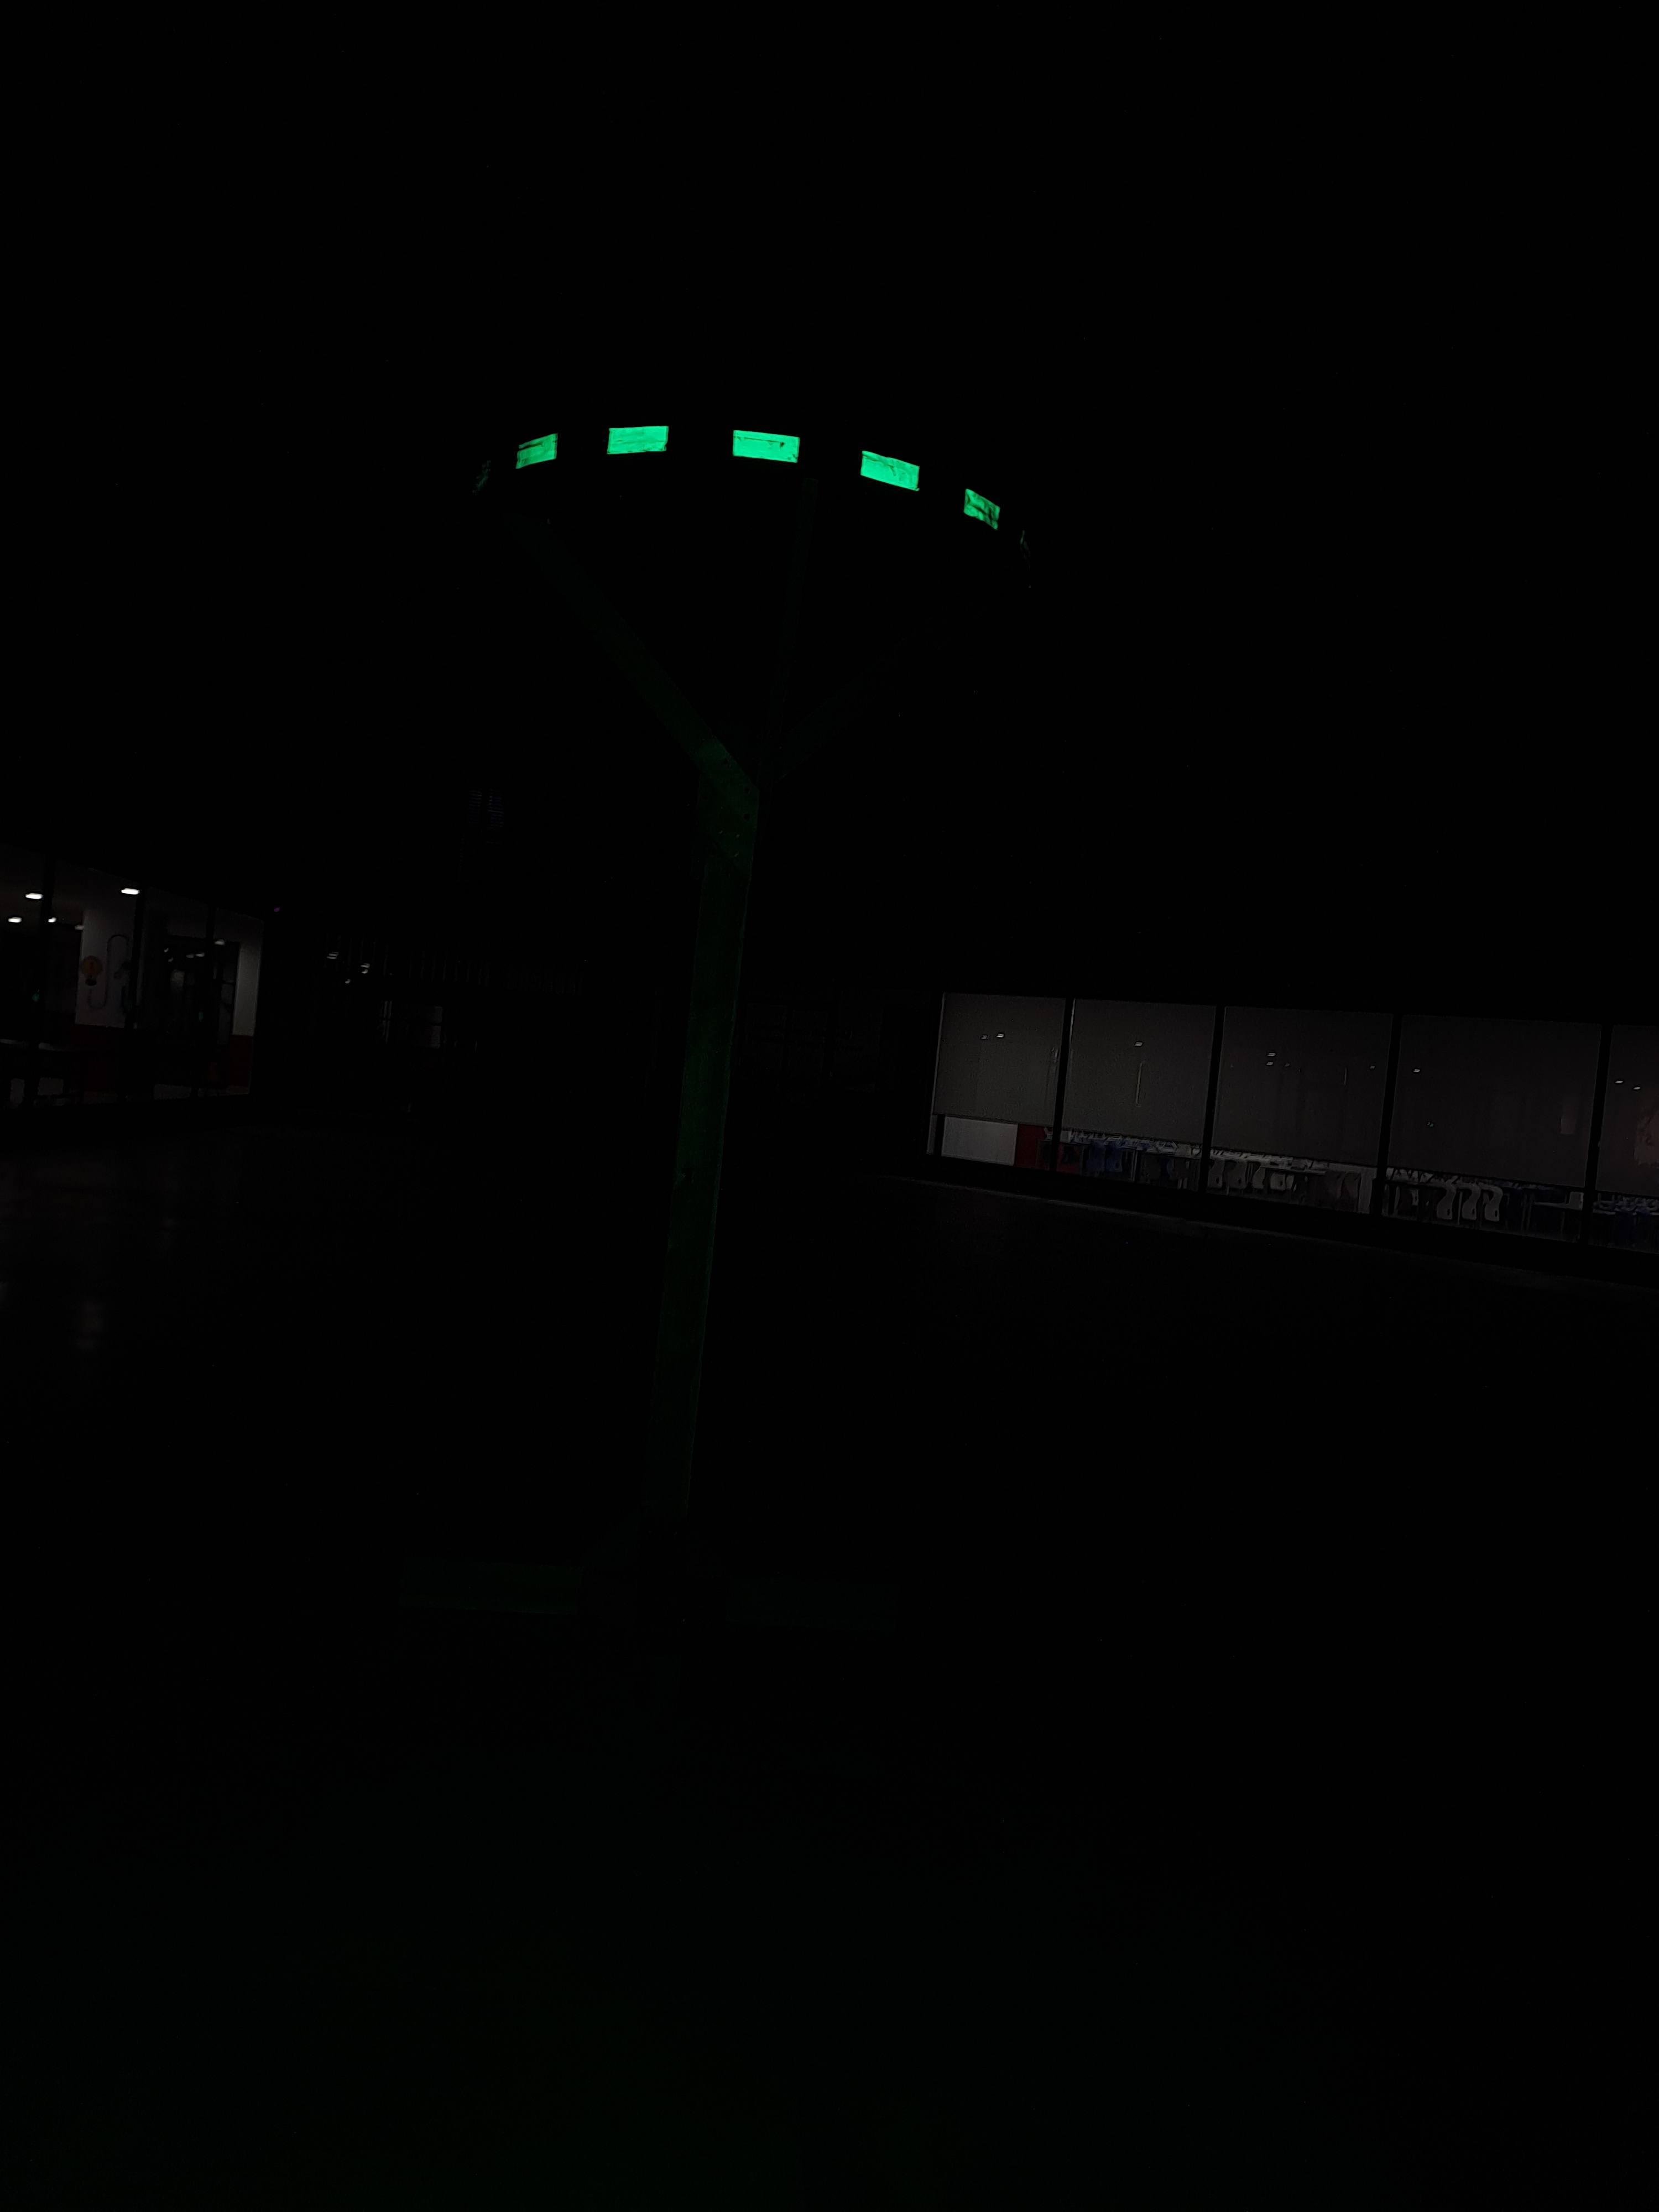hoop: (512, 408, 1006, 545)
